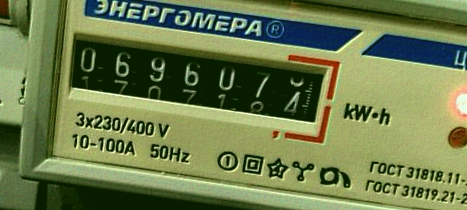0: (76, 43, 100, 76), (216, 61, 239, 94)
4: (280, 87, 303, 118)
6: (110, 47, 136, 80), (181, 58, 204, 89)
7: (250, 67, 272, 100)
9: (146, 54, 169, 85)
screen: (47, 13, 343, 144)
